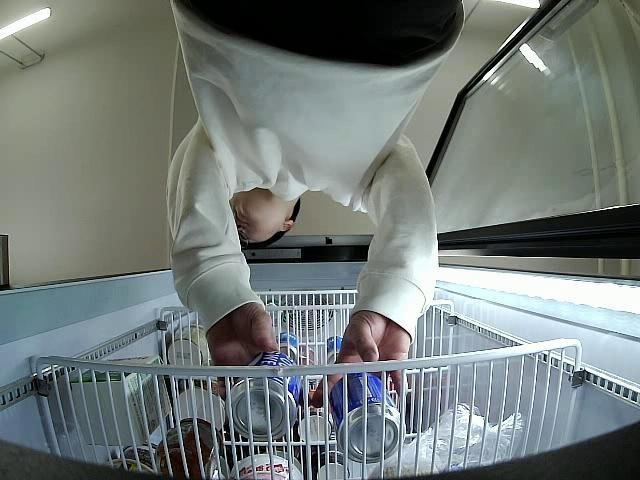13_pocariSweat: (330, 370, 406, 463), (230, 348, 303, 440)
